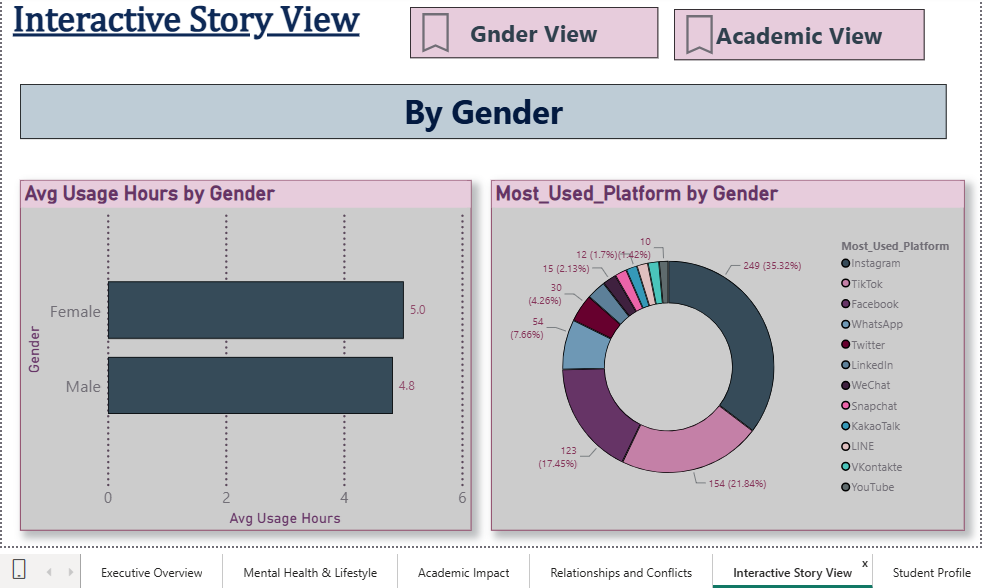

What the dashboard file says about the page in this screenshot:
{"tool":"powerbi","page":{"name":"Interactive Story View","canvas":[1280,720],"ordinal":4},"visuals":[{"type":"textbox","box":[9.3,0,563,98.1],"z":0},{"type":"actionButton","box":[880.3,16.4,327.9,67.2],"z":3000},{"type":"textbox","box":[24.1,114.8,1213,72.2],"z":5000},{"type":"actionButton","box":[534.4,14.8,324.6,67.2],"z":6000},{"type":"clusteredBarChart","fields":{"Y":["Platform Details.Avg Usage Hours"],"Category":["Student Details.Gender"]},"box":[24.1,240.7,590.7,459.3],"z":7000},{"type":"donutChart","title":"Most_Used_Platform by Gender","fields":{"Category":["Platform Details.Most_Used_Platform"],"Y":["CountNonNull(Student Details.Gender)"]},"box":[640.7,240.7,620.4,459.3],"z":8000}]}

Visuals, with their boxes on the page's 1280x720 design canvas (x1, y1, x2, y2). These are canvas units, not pixel positions in the 982x588 screenshot, which may show the page scaled, cropped or inside an application window:
textbox: box=[9, 0, 572, 98]
actionButton: box=[880, 16, 1208, 84]
textbox: box=[24, 115, 1237, 187]
actionButton: box=[534, 15, 859, 82]
clusteredBarChart - Platform Details.Avg Usage Hours x Student Details.Gender: box=[24, 241, 615, 700]
"Most_Used_Platform by Gender" donutChart: box=[641, 241, 1261, 700]
